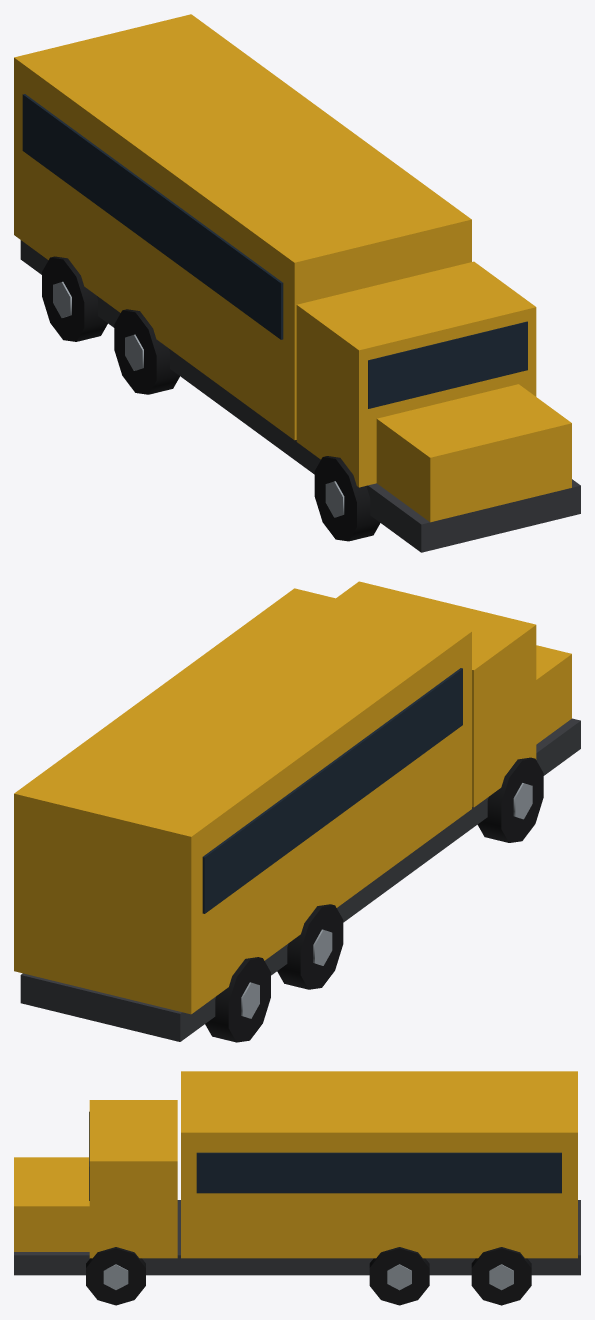
The model's file is veh_ground_bus_a06.glb.
3 views of the same model, one above another, from view 1: azimuth 30°, elevation 25°; view 2: azimuth 150°, elevation 25°; view 3: azimuth 270°, elevation 25° (orthographic). The views are drawn at different scales.
Parts seen in each view (by area): view 1: body, wheel_4, wheel_0, wheel_2; view 2: body, wheel_2, wheel_4, wheel_0; view 3: body, wheel_1, wheel_3, wheel_5.
Boxes of the visible parts, <box> form: body: <box>14,14,580,552</box>; wheel_4: <box>314,456,380,541</box>; wheel_0: <box>42,256,107,341</box>; wheel_2: <box>114,309,179,394</box>; body: <box>14,581,580,1041</box>; wheel_2: <box>277,904,343,989</box>; wheel_4: <box>477,757,543,842</box>; wheel_0: <box>205,957,270,1042</box>; body: <box>14,1071,580,1275</box>; wheel_1: <box>471,1247,531,1305</box>; wheel_3: <box>369,1247,429,1305</box>; wheel_5: <box>86,1247,145,1305</box>.
Size of what is drawn, in the model's own units: 2.46 by 3 by 9.
